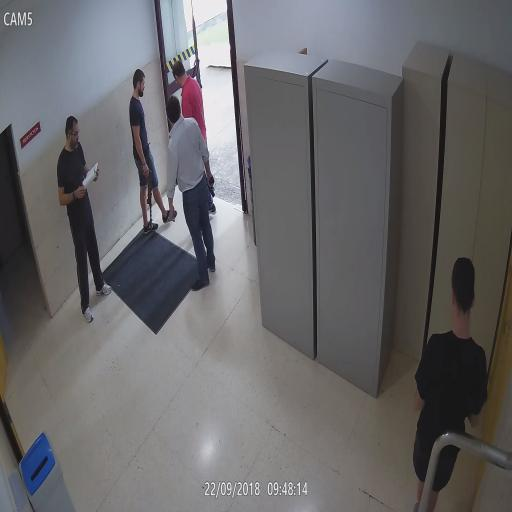Handgun: (206, 173, 217, 198)
